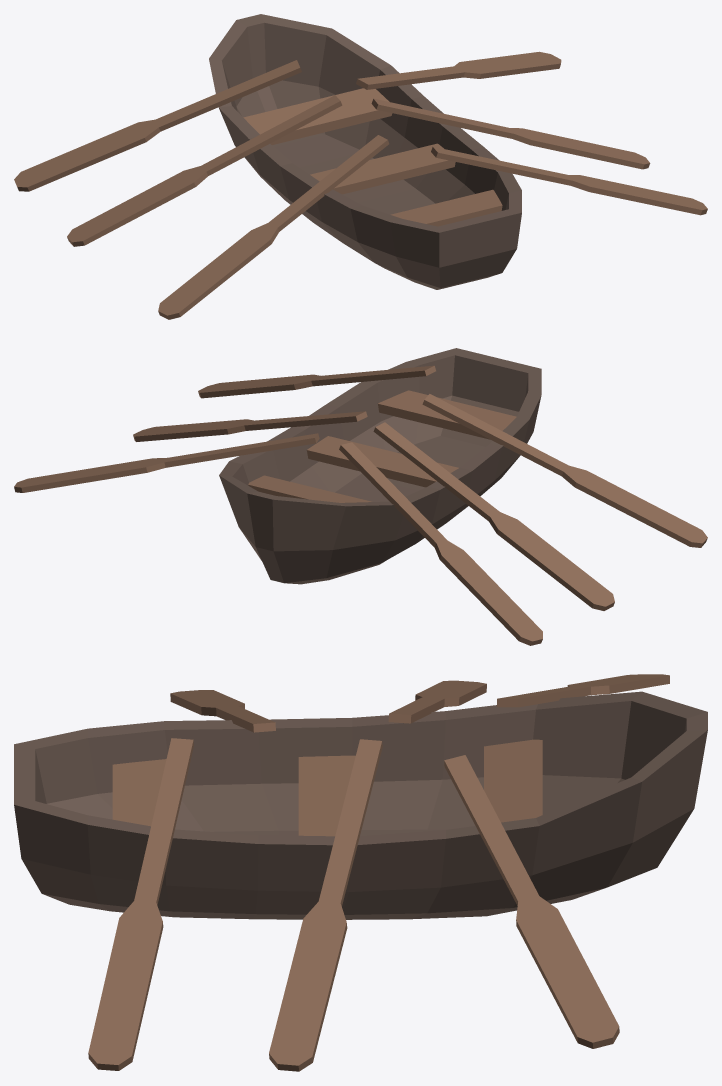
Rendered from RowBoatWithOars.fbx.
3 renders of one model, top to bottom at view 1: azimuth 30°, elevation 25°; view 2: azimuth 150°, elevation 25°; view 3: azimuth 270°, elevation 25°, orthographic. The views are drawn at different scales.
Visible parts, largest first — view 1: RowBoatWithOars; view 2: RowBoatWithOars; view 3: RowBoatWithOars.
Boxes of the visible parts, x1=… form: RowBoatWithOars: x1=14, y1=14, x2=707, y2=319; RowBoatWithOars: x1=14, y1=348, x2=707, y2=645; RowBoatWithOars: x1=14, y1=674, x2=707, y2=1071.
Size of the model in its own units: 3.13 by 2.35 by 0.6619.
